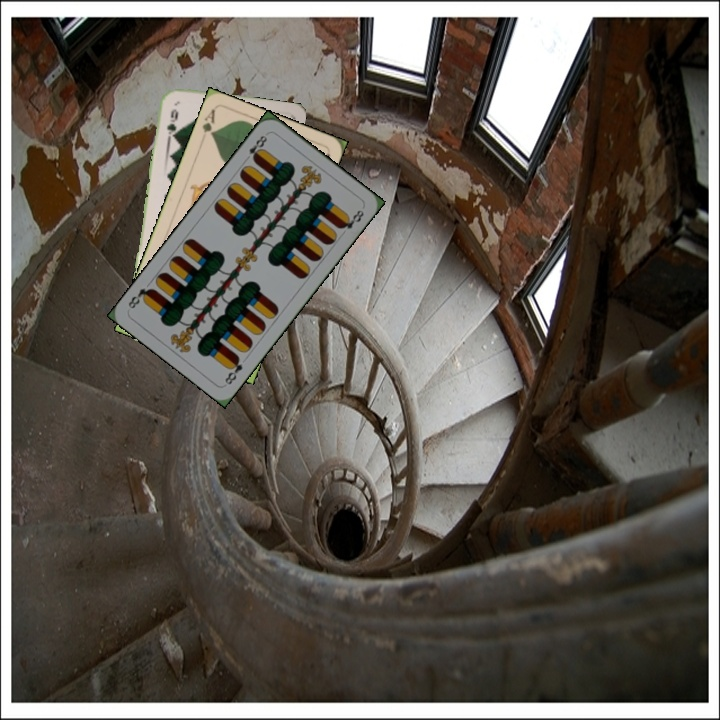E8: (241, 129, 270, 164), (221, 352, 245, 387)
G9: (163, 105, 180, 141)
GA: (198, 105, 218, 140)
